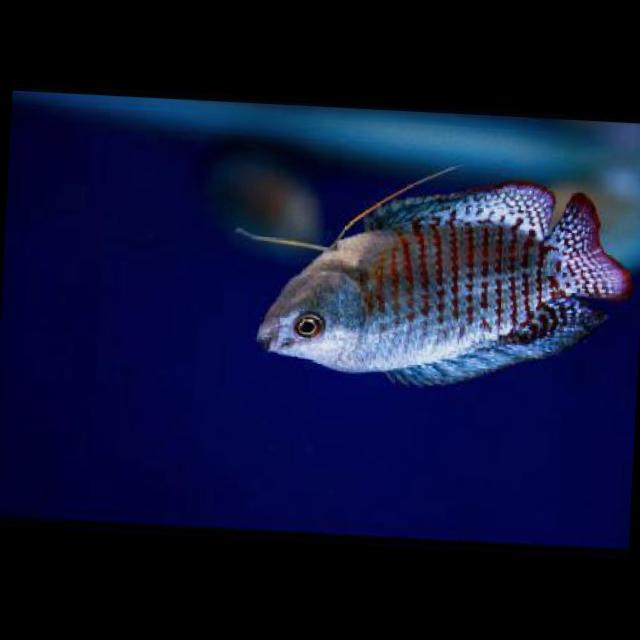Gourami: (249, 170, 638, 406)
